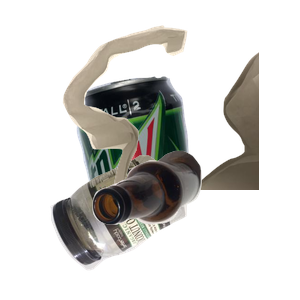glass: (90, 148, 300, 300)
metal: (74, 74, 257, 254)
plastic: (48, 152, 228, 300)
trash: (60, 23, 300, 203)
